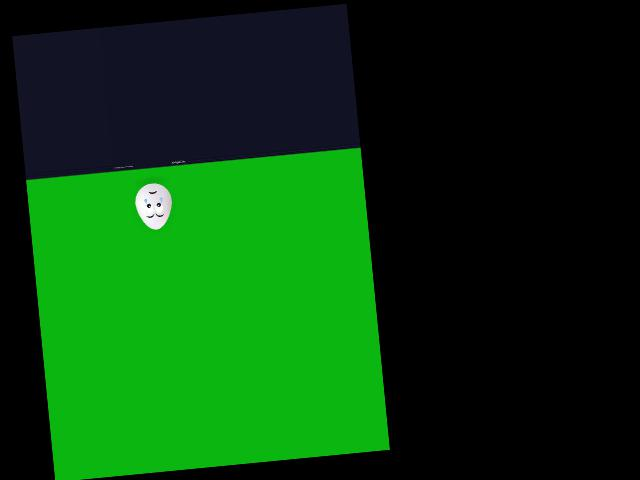egg: (133, 181, 174, 231)
